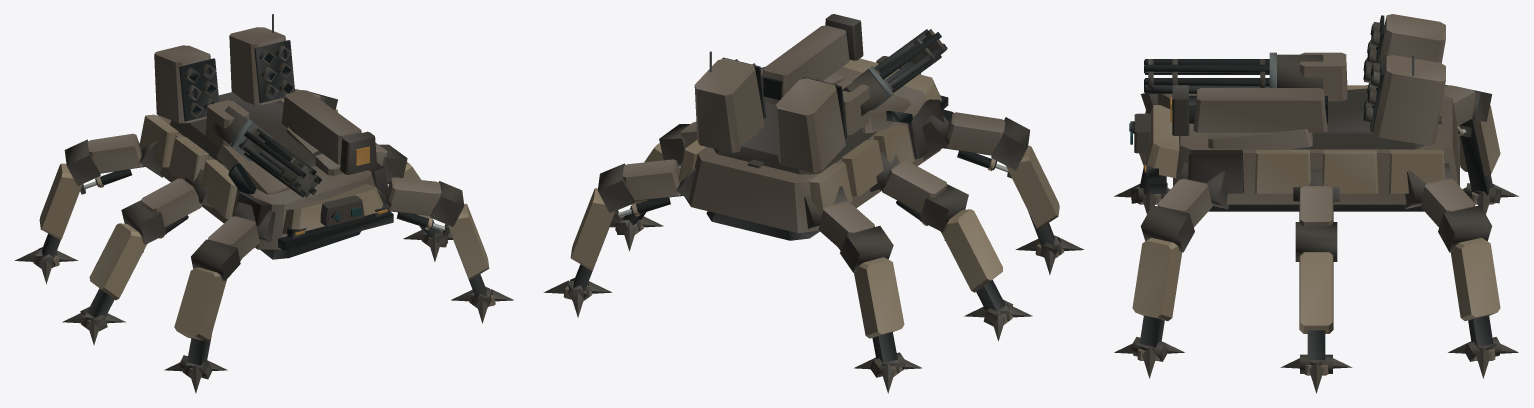
3 renders of one model, left to right at view 1: azimuth 30°, elevation 25°; view 2: azimuth 150°, elevation 25°; view 3: azimuth 270°, elevation 25°, orthographic. The views are drawn at different scales.
Visible parts, largest first — view 1: MX06_STATIC; view 2: MX06_STATIC; view 3: MX06_STATIC.
Part boxes in pixels (x1,y1,x2,y2): MX06_STATIC: (14,14,513,393); MX06_STATIC: (543,14,1084,393); MX06_STATIC: (1114,14,1518,393).
Bounding box in the file's own units: 6.74 × 3.8 × 5.45.
